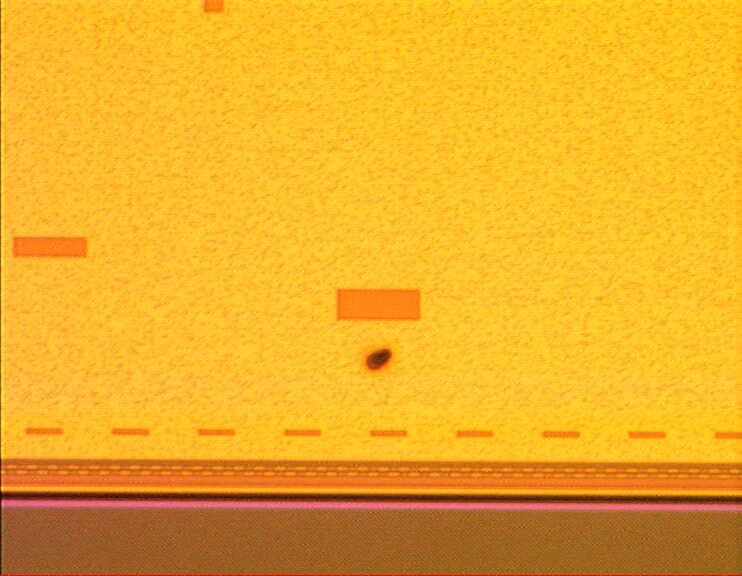PIQ PARTICLE: (358, 342, 399, 375)
